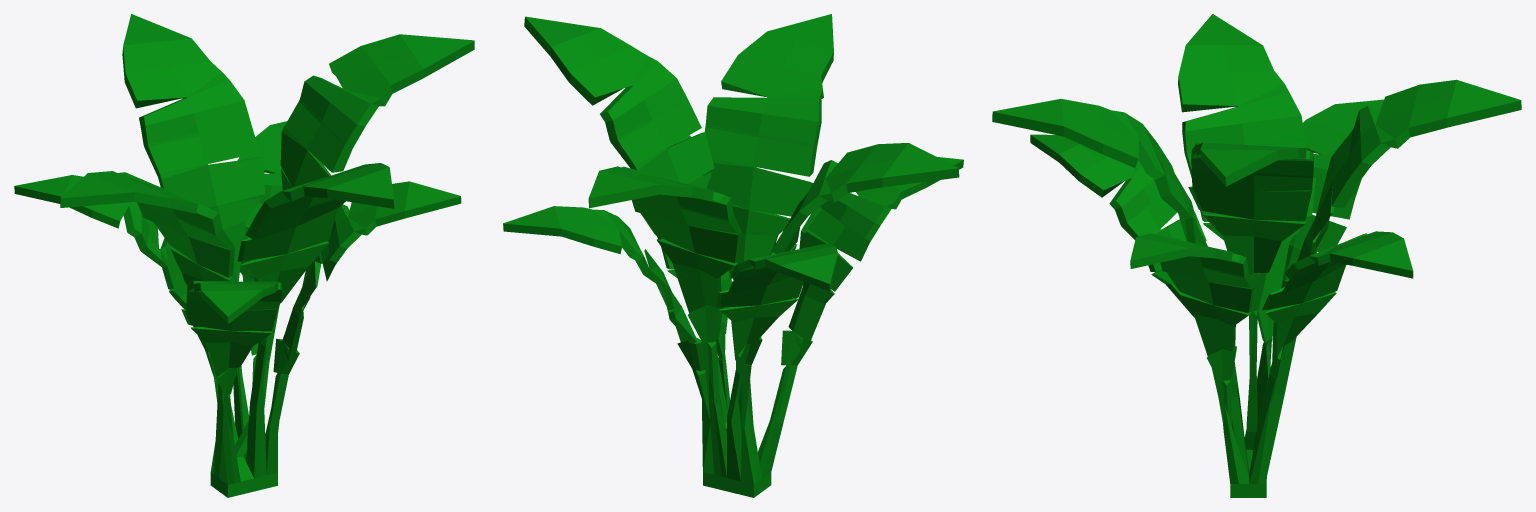
Rendered from Dschungelpflanze_2.fbx.
3 renders of one model, left to right at view 1: azimuth 30°, elevation 25°; view 2: azimuth 150°, elevation 25°; view 3: azimuth 270°, elevation 25°, orthographic. The views are drawn at different scales.
Visible parts, largest first — view 1: Cube.001; view 2: Cube.001; view 3: Cube.001.
Part boxes in pixels (left/top/right/bottom): Cube.001: left=14, top=14, right=474, bottom=497; Cube.001: left=503, top=14, right=963, bottom=497; Cube.001: left=992, top=14, right=1521, bottom=497.
Bounding box in the file's own units: 122 × 111 × 126.
